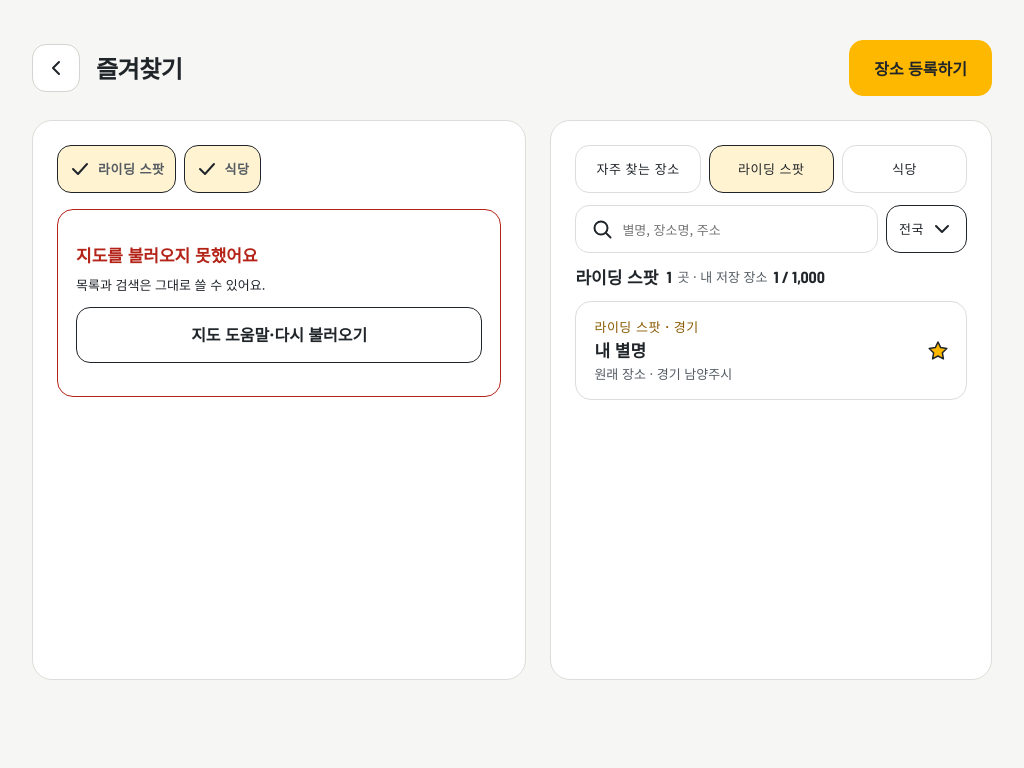
replaces a failed map with the FP41 card and reloads the map on request
Click the button "지도 도움말·다시 불러오기" at (279, 335), box [76,307,482,363]
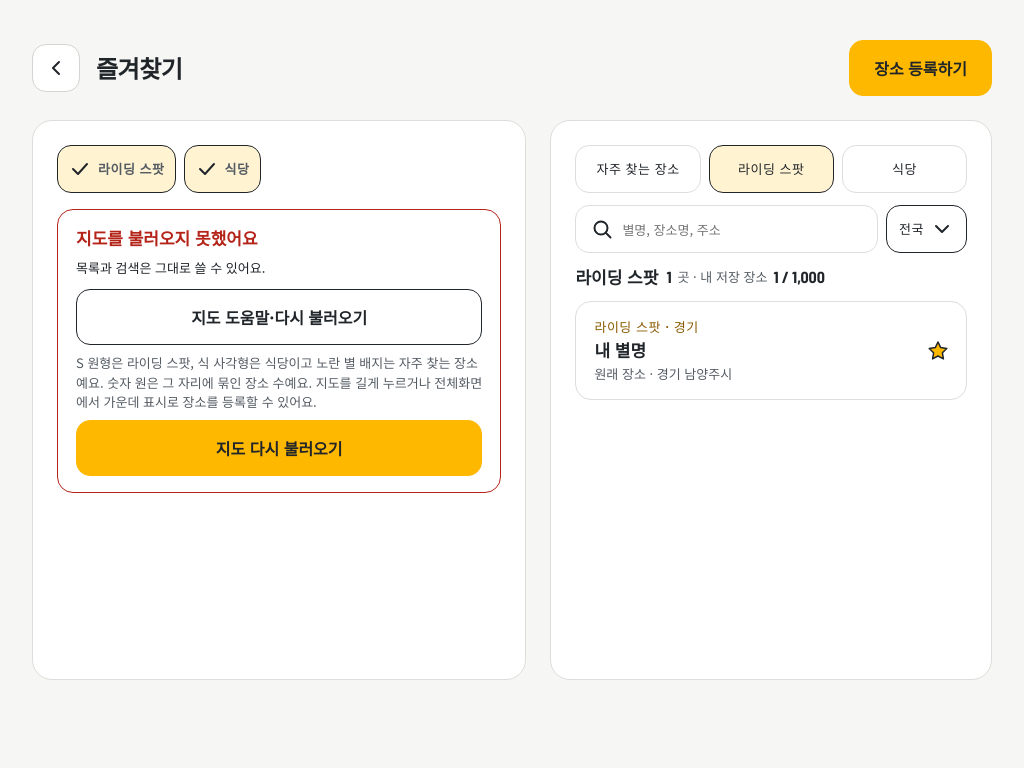
Click the button "지도 다시 불러오기" at (279, 448), box [76,420,482,476]
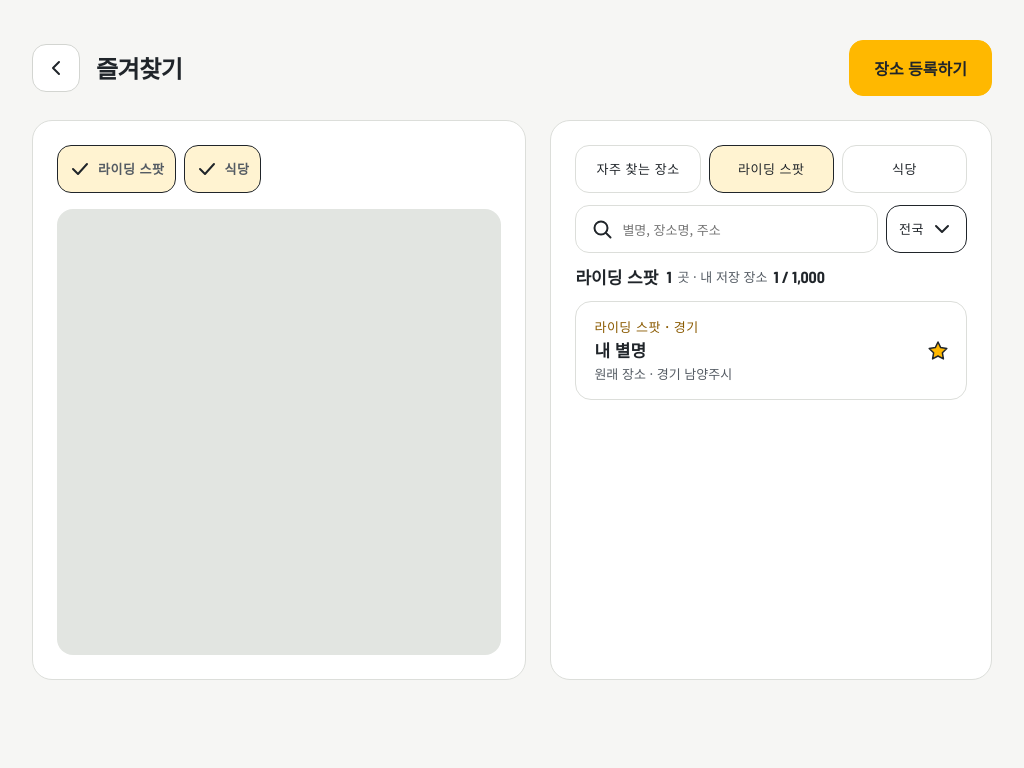
Now the text "지도를 불러오지 못했어요" is gone
